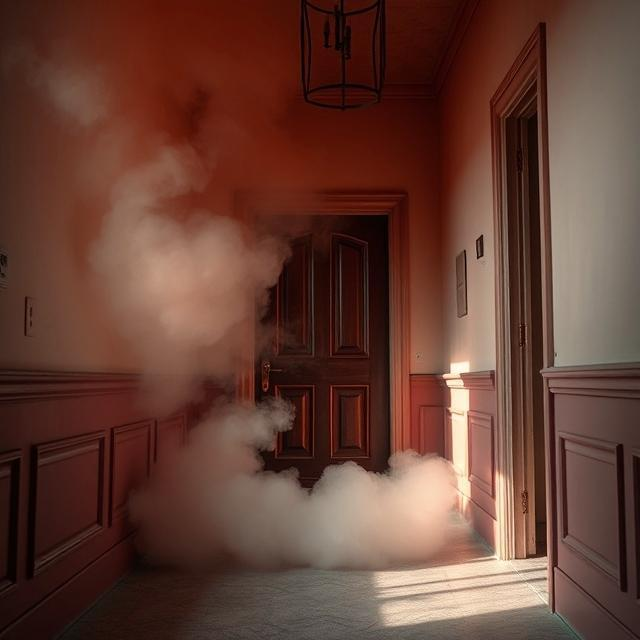fire: (124, 398, 461, 576), (84, 140, 294, 420)
